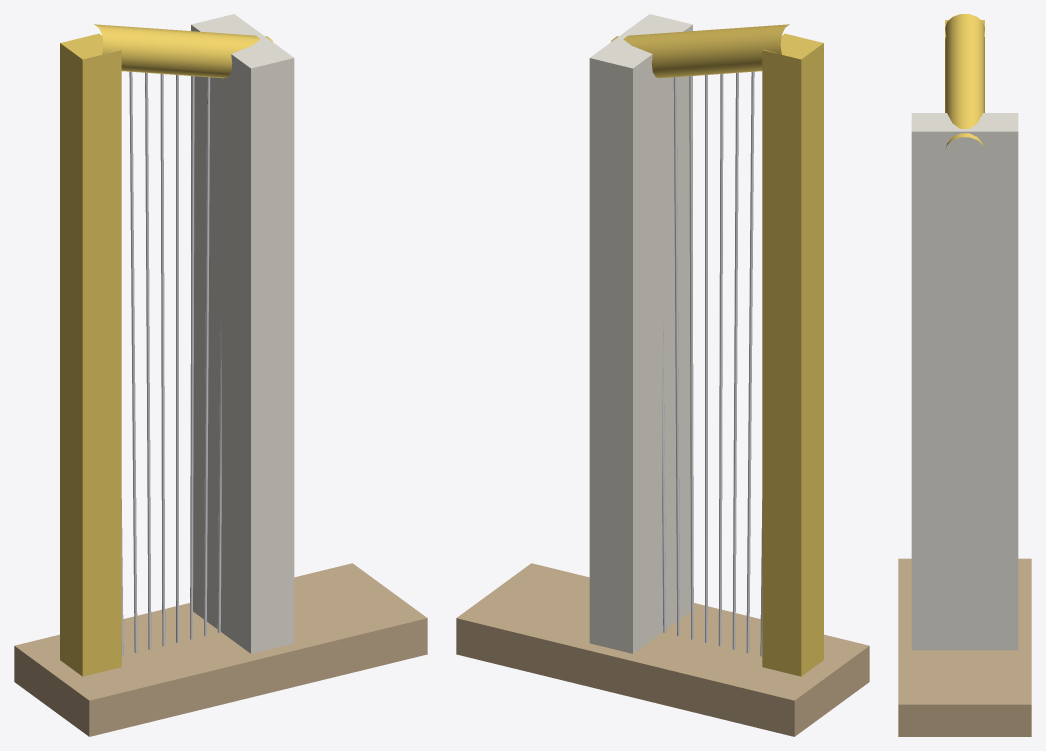
Rendered from harp.glb.
3 views of the same model, side by side, from view 1: azimuth 30°, elevation 25°; view 2: azimuth 150°, elevation 25°; view 3: azimuth 270°, elevation 25° (orthographic). The views are drawn at different scales.
Visible parts, largest first — view 1: harp; view 2: harp; view 3: harp.
Boxes of the visible parts, box(x1,y1,x2,y2) form: harp: box(14, 14, 427, 736); harp: box(456, 14, 869, 736); harp: box(898, 14, 1031, 736).
Size of the model in its own units: 0.78 by 1.48 by 0.3.
